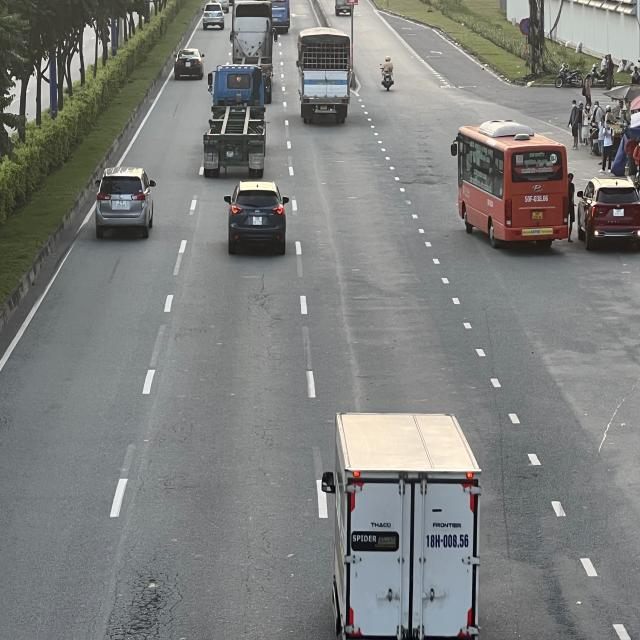car: (223, 182, 289, 256), (576, 176, 640, 248), (96, 169, 156, 238), (173, 48, 204, 82), (203, 1, 226, 30)
coach: (450, 122, 568, 250)
container: (200, 65, 266, 179), (230, 3, 273, 93)
truck: (325, 404, 485, 636), (298, 30, 356, 124)
